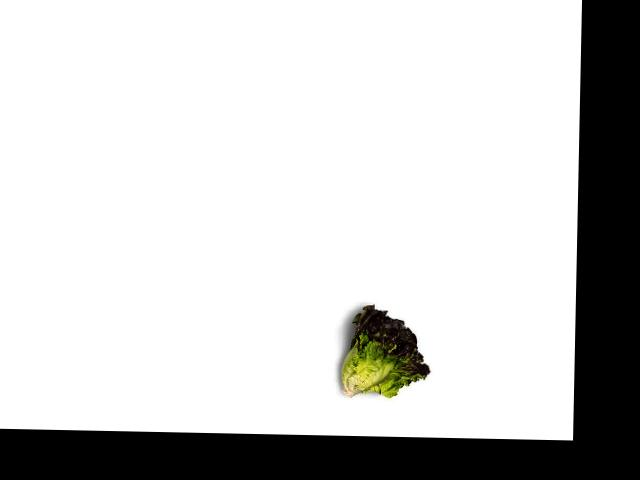lettuce: (340, 298, 429, 402)
